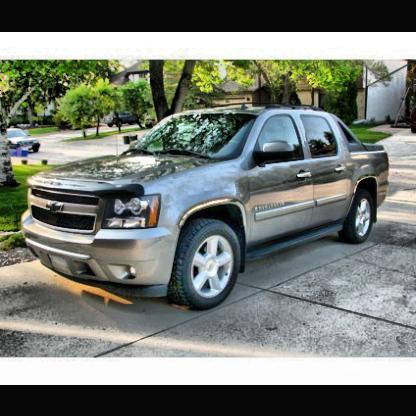Chevrolet Avalanche Crew Cab 2012: (25, 106, 392, 314)
